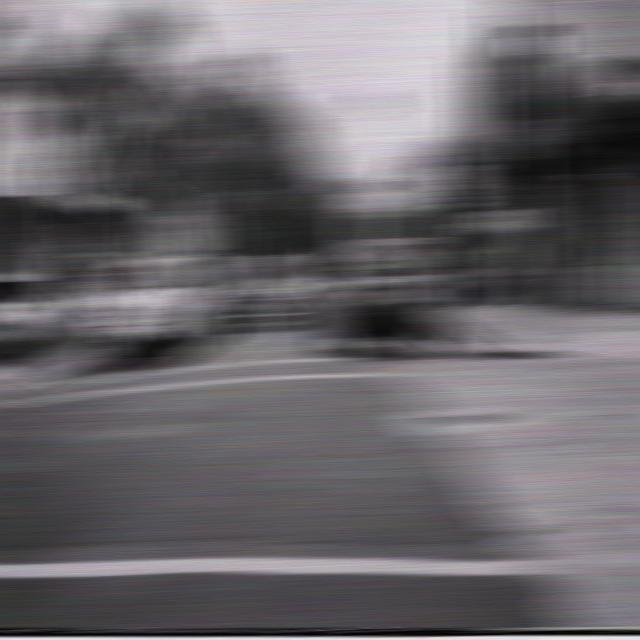speedLimit25: (439, 162, 481, 208)
